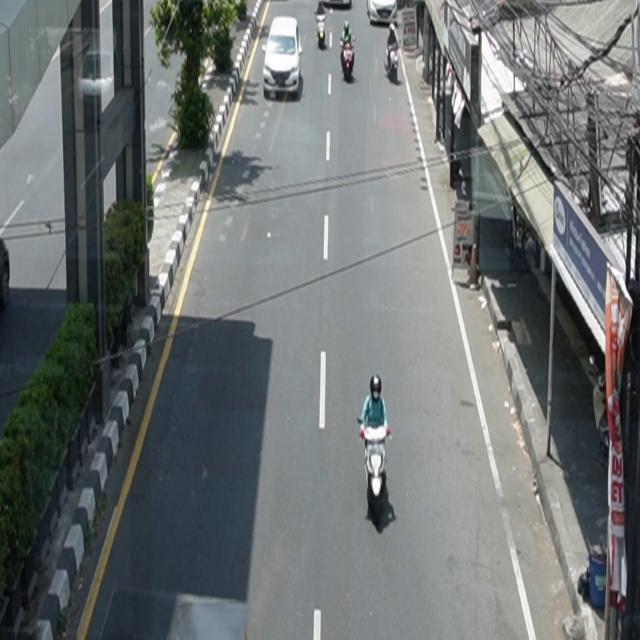car: (263, 16, 303, 100), (366, 1, 398, 25)
